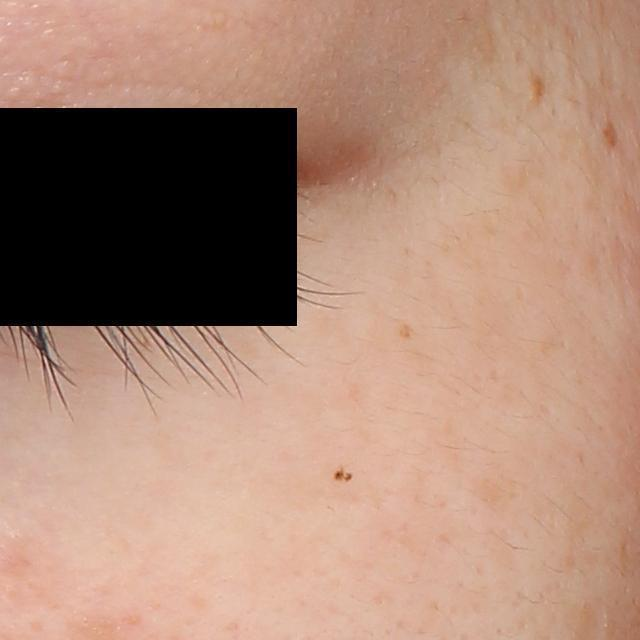melasma: (397, 322, 419, 338)
nevus: (327, 459, 360, 488), (599, 116, 619, 150), (529, 76, 547, 109)
